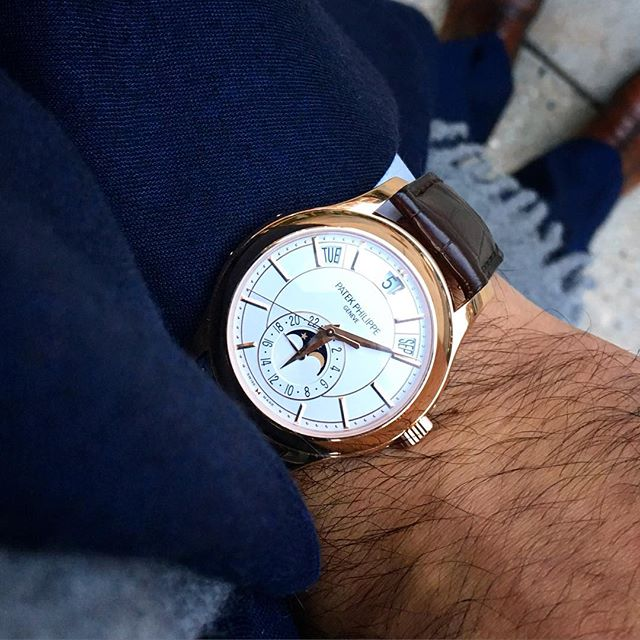clock: (226, 228, 437, 436)
